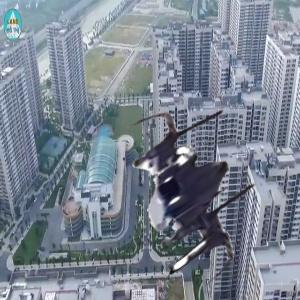drone: (92, 101, 281, 290)
